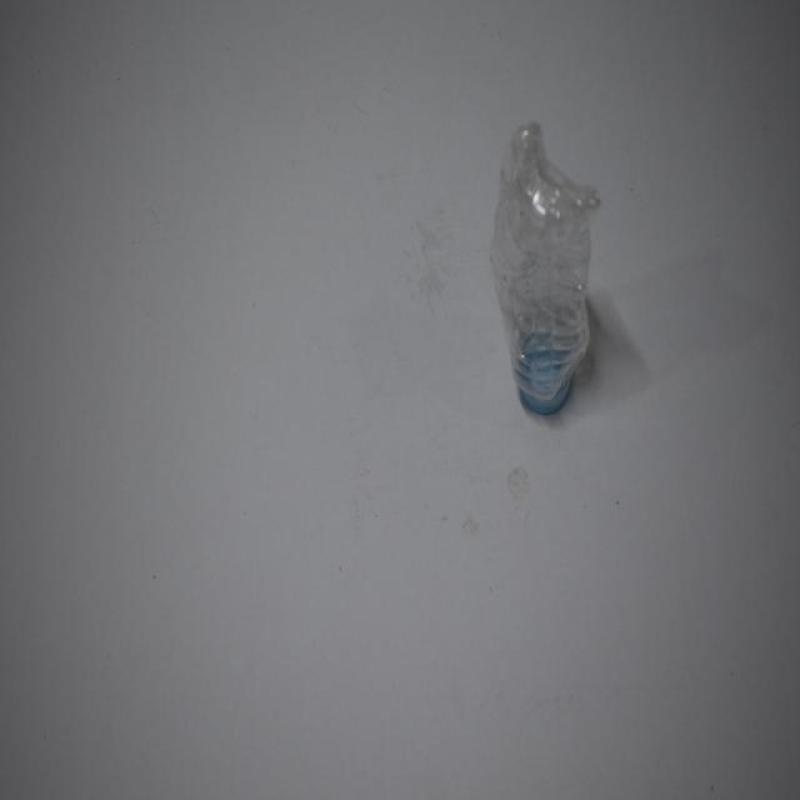botella: (487, 123, 603, 432)
